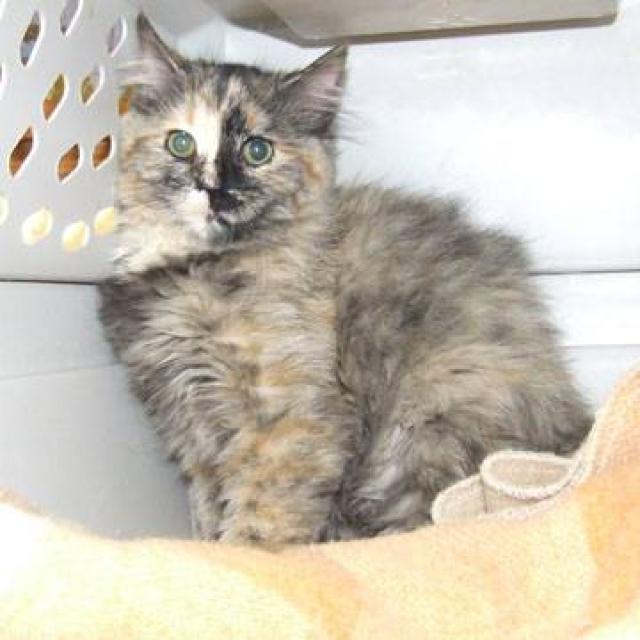cat: (94, 11, 596, 551)
